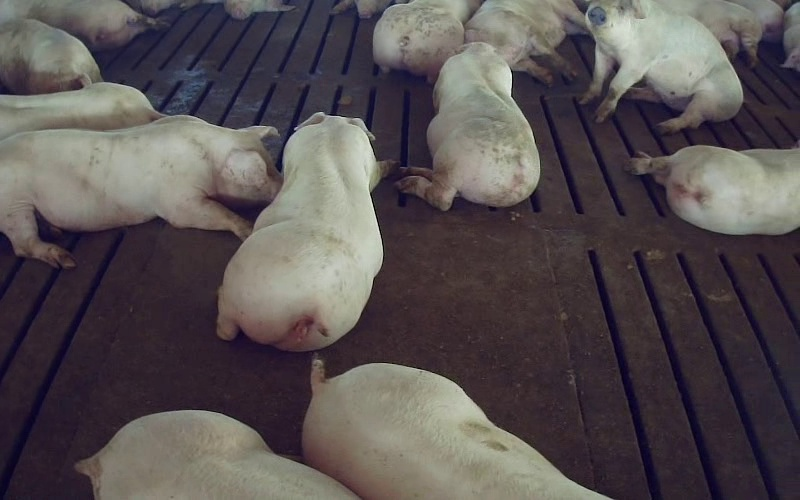pig: (0, 115, 281, 267), (217, 113, 395, 350), (303, 361, 606, 499), (75, 411, 358, 499), (396, 43, 538, 210), (579, 0, 742, 133), (626, 145, 799, 234), (465, 0, 586, 85), (0, 82, 163, 139)
